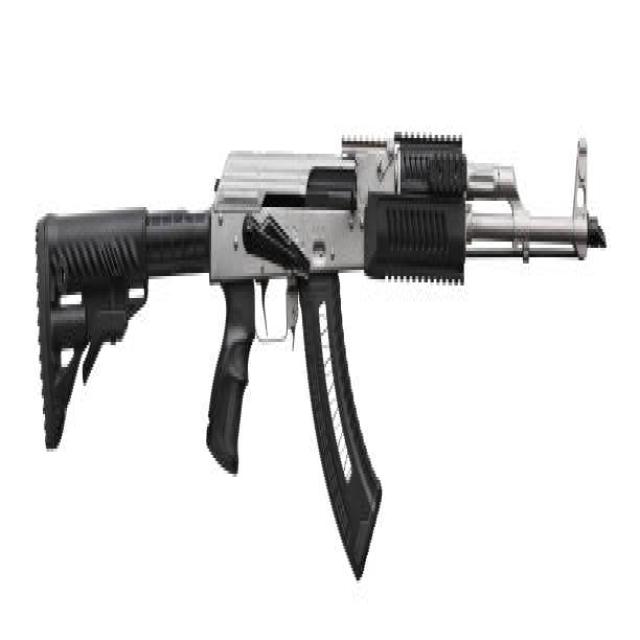rifle: (29, 118, 610, 600)
